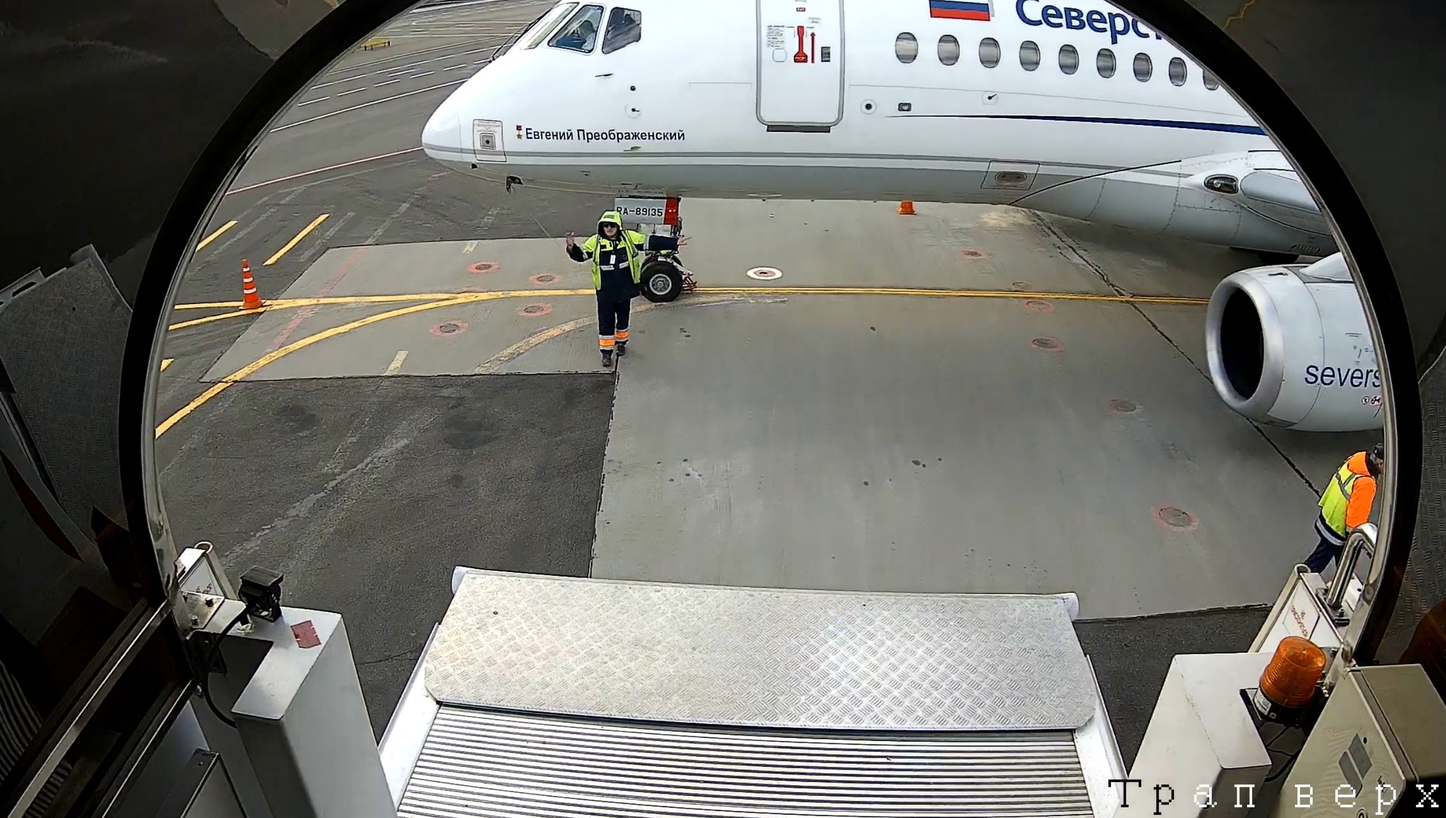boots: (682, 266, 702, 296)
wheels: (643, 256, 683, 306)
